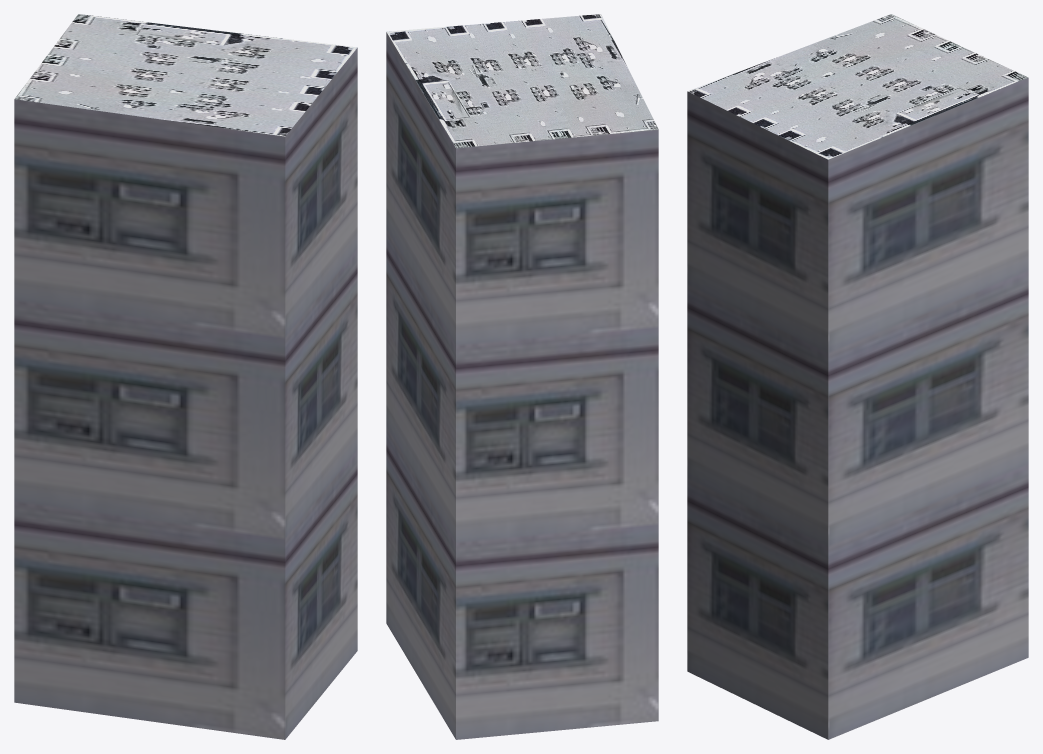
File: ResTex__4146.fbx
3 views of the same model, side by side, from view 1: azimuth 30°, elevation 25°; view 2: azimuth 150°, elevation 25°; view 3: azimuth 270°, elevation 25° (orthographic). The views are drawn at different scales.
Parts seen in each view (by area): view 1: CityEngineMaterial_1_m, CityEngineMaterial_4_m; view 2: CityEngineMaterial_1_m, CityEngineMaterial_4_m; view 3: CityEngineMaterial_1_m, CityEngineMaterial_4_m.
Part boxes in pixels (left/top/right/bottom): CityEngineMaterial_1_m: left=14, top=48, right=357, bottom=739; CityEngineMaterial_4_m: left=14, top=14, right=357, bottom=136; CityEngineMaterial_1_m: left=386, top=32, right=658, bottom=739; CityEngineMaterial_4_m: left=386, top=14, right=658, bottom=148; CityEngineMaterial_1_m: left=687, top=77, right=1028, bottom=739; CityEngineMaterial_4_m: left=688, top=14, right=1027, bottom=159.
Bounding box in the file's own units: 4.85 × 9 × 4.8.
2 materials, 2 textured.
